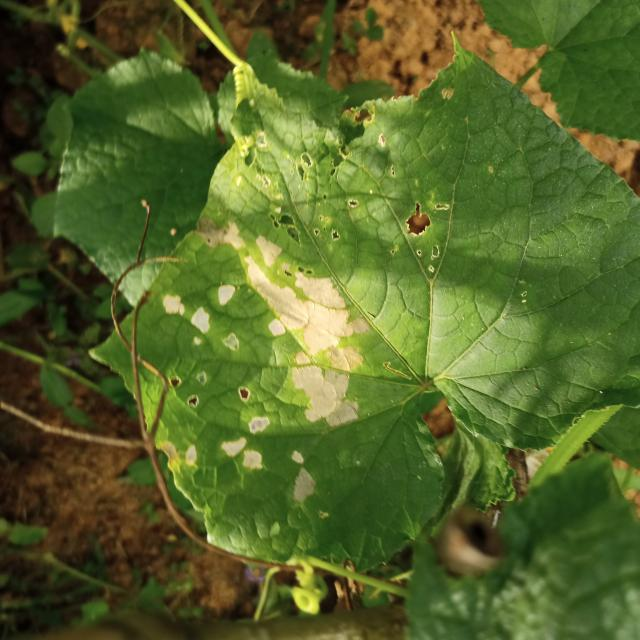disease_cucumber: (153, 216, 377, 513)
